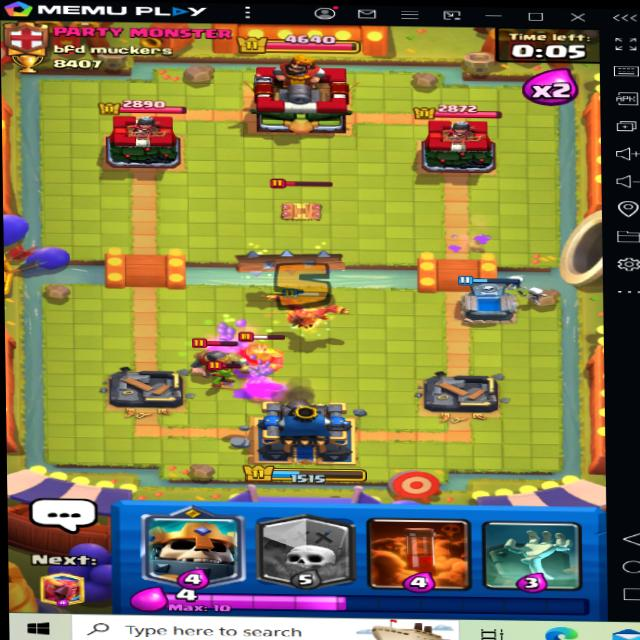goblin: (200, 362, 242, 389)
knight: (174, 329, 251, 387), (233, 333, 285, 371)
tesla-closed: (262, 170, 340, 233)
